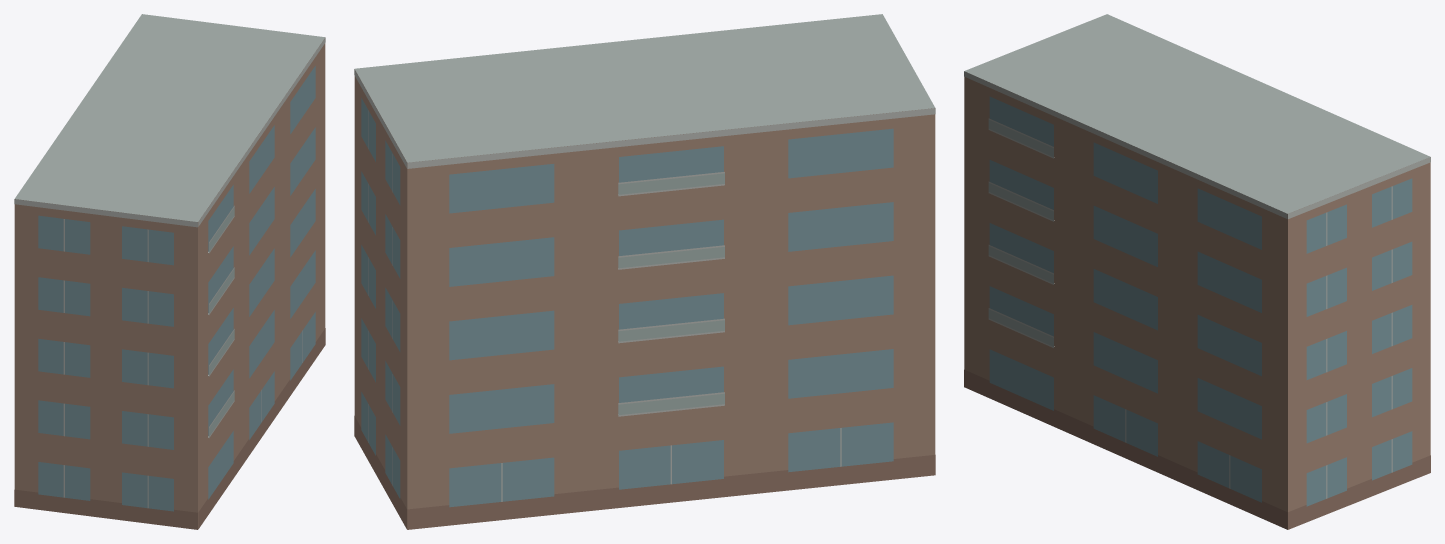
Rendered from survey-upis-32752978.glb.
The picture shows the model from 3 angles, left to right: view 1: azimuth 30°, elevation 25°; view 2: azimuth 150°, elevation 25°; view 3: azimuth 270°, elevation 25°; orthographic projection. The views are drawn at different scales.
Visible parts, largest first — view 1: survey-upis-32752978.tmp; view 2: survey-upis-32752978.tmp; view 3: survey-upis-32752978.tmp.
Boxes of the visible parts, x1=… form: survey-upis-32752978.tmp: x1=14, y1=14, x2=325, y2=529; survey-upis-32752978.tmp: x1=354, y1=14, x2=935, y2=529; survey-upis-32752978.tmp: x1=964, y1=14, x2=1430, y2=529.
Bounding box in the file's own units: 19.27 × 14.2 × 19.01.
